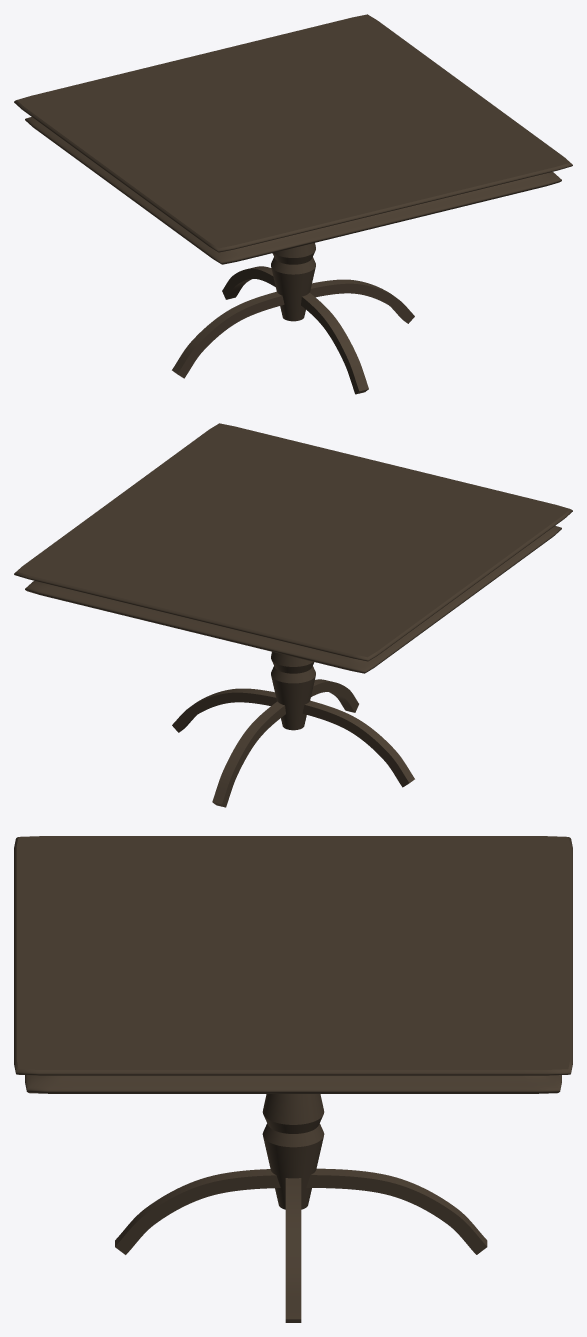
Rendered from pedestal_table__3fa3ea73c391.glb.
The picture shows the model from 3 angles, top to bottom: view 1: azimuth 30°, elevation 25°; view 2: azimuth 150°, elevation 25°; view 3: azimuth 270°, elevation 25°; orthographic projection. The views are drawn at different scales.
Parts seen in each view (by area): view 1: stepped_top, curved_feet, curved_feet.001, pedestal; view 2: stepped_top, curved_feet, curved_feet.001, pedestal; view 3: stepped_top, curved_feet.001, pedestal, curved_feet.
Boxes of the visible parts, box(x1,y1,x2,y2) form: stepped_top: box(14, 14, 572, 264); curved_feet: box(172, 279, 414, 378); curved_feet.001: box(222, 266, 368, 394); pedestal: box(271, 243, 315, 321); stepped_top: box(14, 423, 572, 673); curved_feet: box(172, 688, 414, 787); curved_feet.001: box(212, 679, 358, 807); pedestal: box(271, 652, 315, 730); stepped_top: box(14, 836, 572, 1093); curved_feet.001: box(115, 1168, 487, 1254); pedestal: box(262, 1094, 324, 1209); curved_feet: box(285, 1178, 301, 1322).
Bounding box in the file's own units: 0.9087 × 0.5304 × 0.9087.
